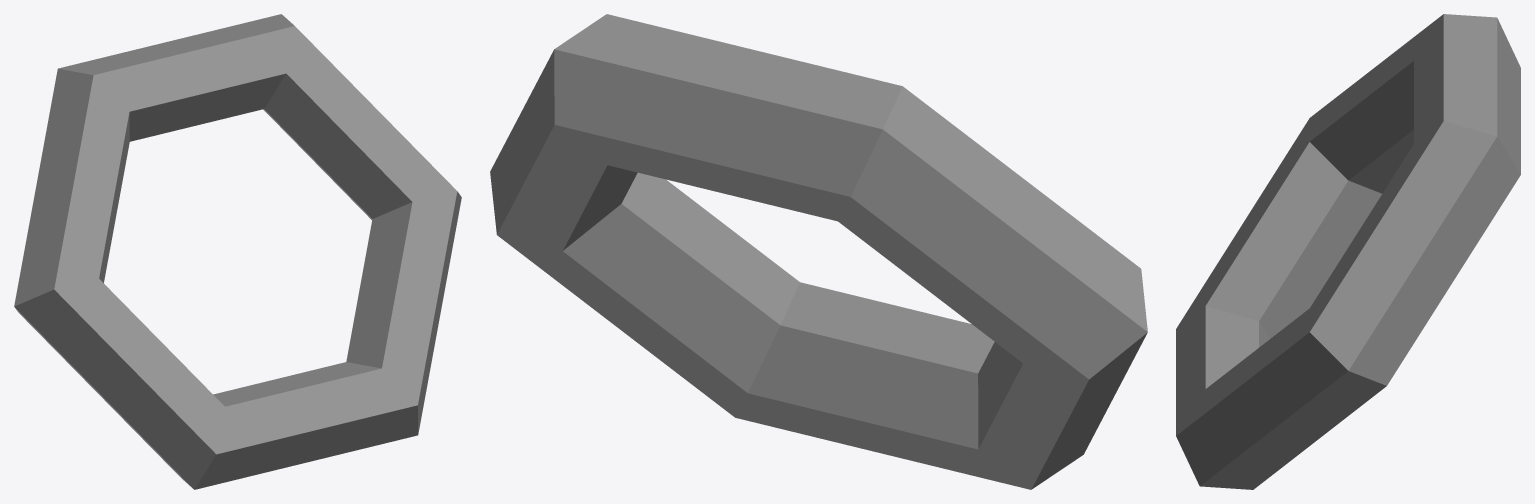
Rendered from DoorFurniture_04_dra.glb.
3 renders of one model, left to right at view 1: azimuth 30°, elevation 25°; view 2: azimuth 150°, elevation 25°; view 3: azimuth 270°, elevation 25°, orthographic. The views are drawn at different scales.
Parts seen in each view (by area): view 1: DoorFurniture_04; view 2: DoorFurniture_04; view 3: DoorFurniture_04.
Part boxes in pixels (<box>): DoorFurniture_04: <box>14,14,461,489</box>; DoorFurniture_04: <box>490,14,1147,489</box>; DoorFurniture_04: <box>1176,14,1520,489</box>.
Bounding box in the file's own units: 0.1787 × 0.1292 × 0.1094.
1 material, 1 textured.
